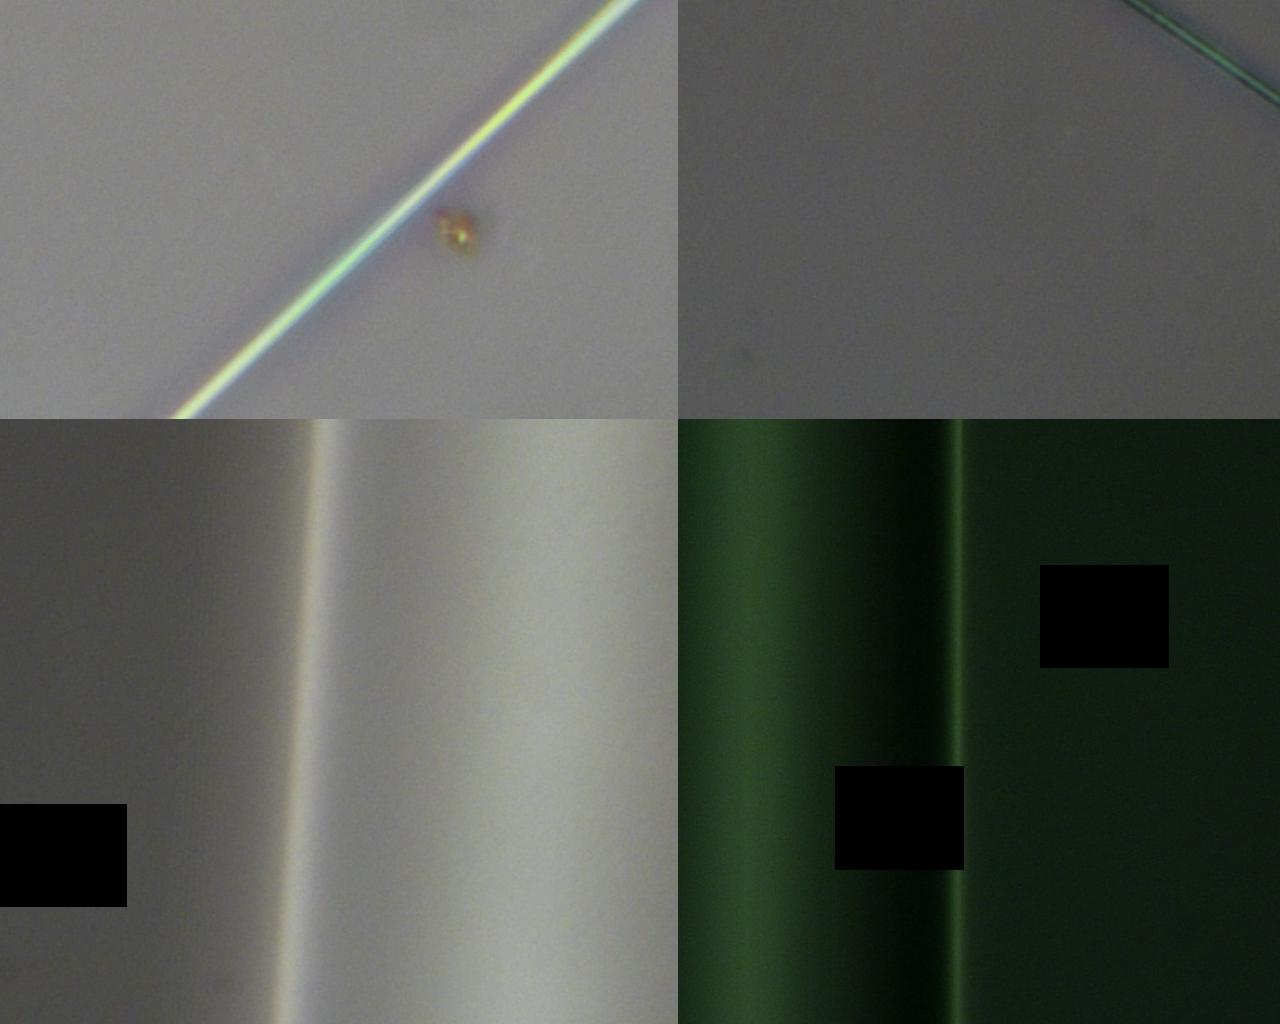fiber: (272, 419, 678, 1024), (168, 0, 640, 419), (678, 419, 959, 1024)
